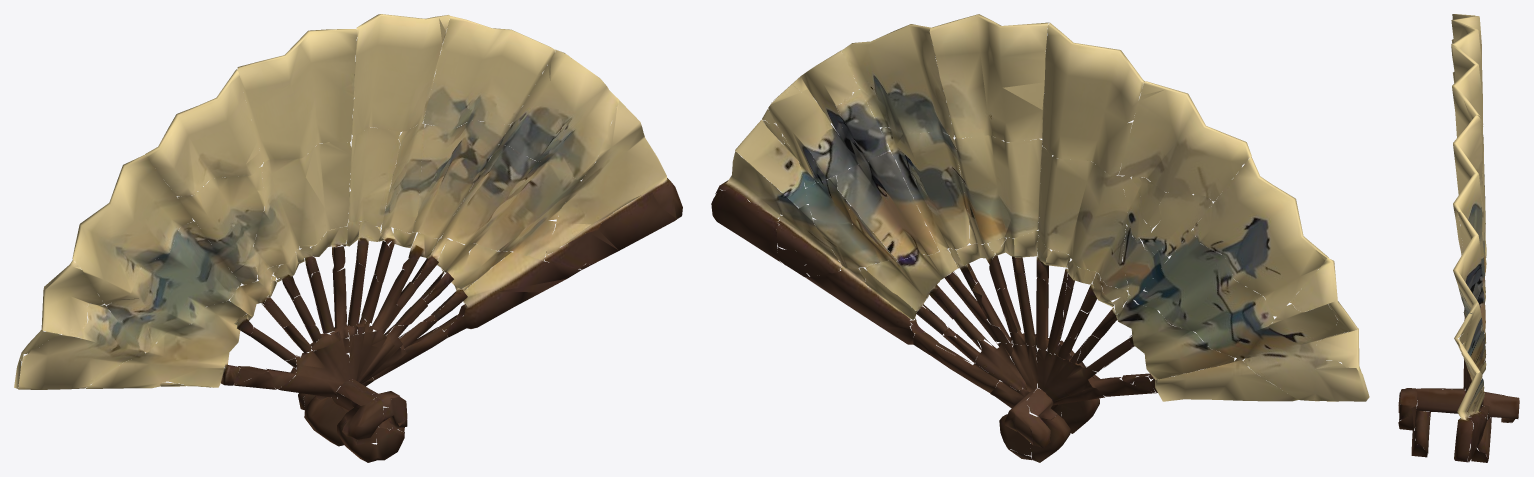
3 renders of one model, left to right at view 1: azimuth 30°, elevation 25°; view 2: azimuth 150°, elevation 25°; view 3: azimuth 270°, elevation 25°, orthographic. The views are drawn at different scales.
Visible parts, largest first — view 1: W102; view 2: W102; view 3: W102.
Part boxes in pixels (x1=…): W102: x1=14, y1=14, x2=682, y2=462; W102: x1=711, y1=14, x2=1369, y2=462; W102: x1=1398, y1=14, x2=1519, y2=462.
Size of the model in its own units: 0.6699 by 0.4127 by 0.1096.
1 material, 1 textured.
